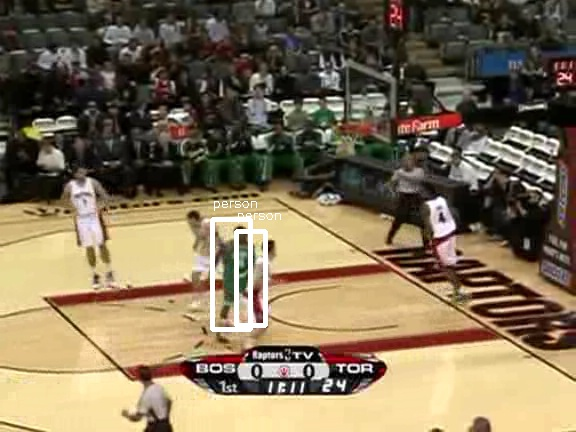person: (224, 231, 258, 312), (223, 231, 257, 312), (225, 231, 259, 312), (224, 230, 258, 311), (224, 232, 258, 313)
target_negative: (210, 138, 407, 251), (342, 9, 440, 112), (375, 286, 484, 336), (276, 382, 411, 394), (384, 165, 388, 276), (82, 324, 222, 327)
